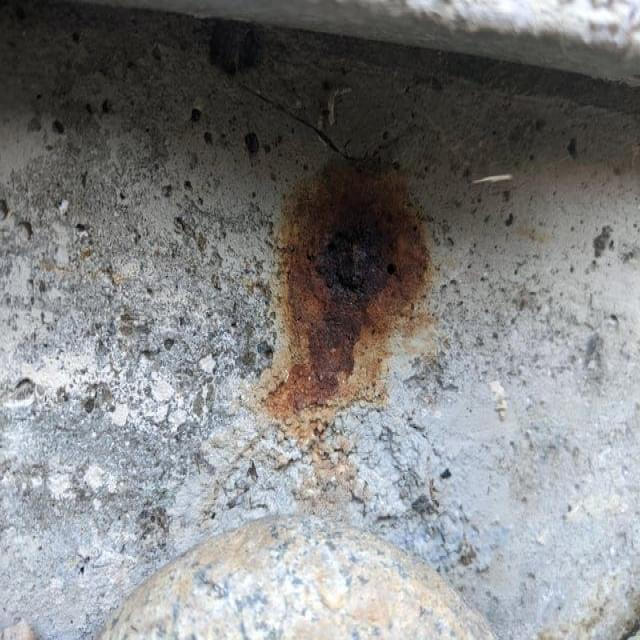corrosion: (250, 161, 427, 421)
